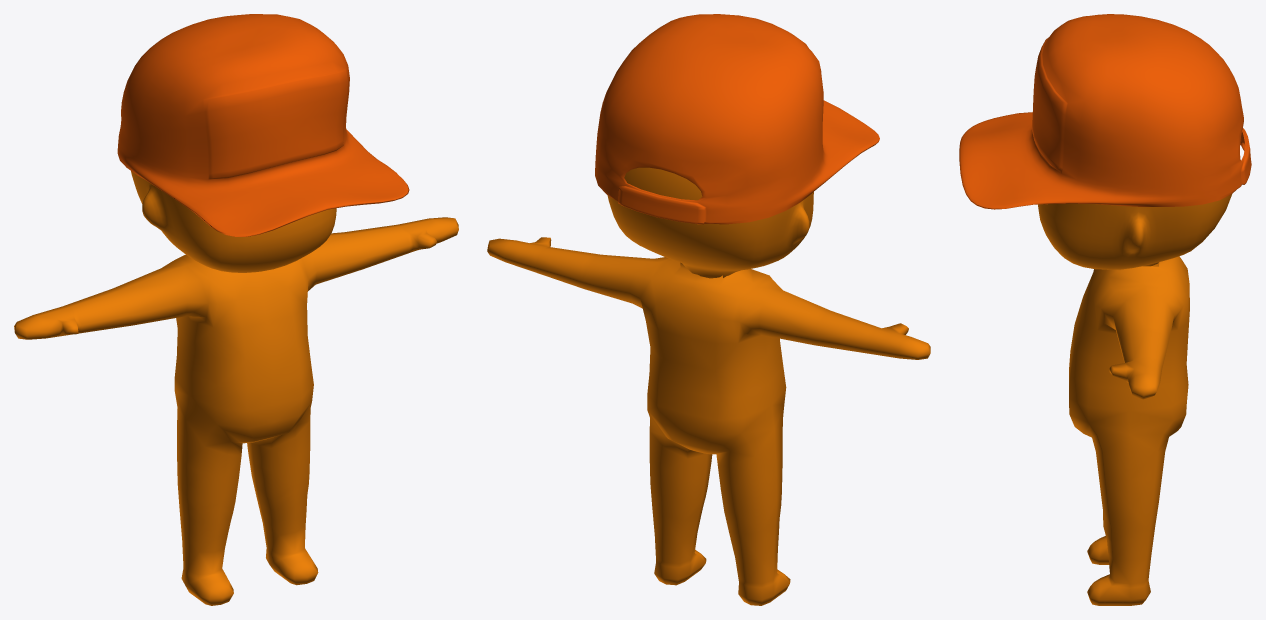
Rendered from character-cleaner.fbx.
3 views of the same model, side by side, from view 1: azimuth 30°, elevation 25°; view 2: azimuth 150°, elevation 25°; view 3: azimuth 270°, elevation 25° (orthographic).
Visible parts, largest first — view 1: Cube, trucker_hat, BODY_Plane.002; view 2: Cube, trucker_hat, BODY_Plane.002; view 3: trucker_hat, Cube, BODY_Plane.002.
Boxes of the visible parts, bbox=[...] form: Cube: bbox=[14, 217, 458, 605]; trucker_hat: bbox=[117, 14, 409, 236]; BODY_Plane.002: bbox=[131, 171, 336, 272]; Cube: bbox=[487, 237, 930, 605]; trucker_hat: bbox=[595, 14, 879, 224]; BODY_Plane.002: bbox=[607, 167, 813, 278]; trucker_hat: bbox=[959, 14, 1251, 209]; Cube: bbox=[1069, 256, 1189, 605]; BODY_Plane.002: bbox=[1038, 194, 1231, 269].
Size of the model in its own units: 887 by 1056 by 512.
